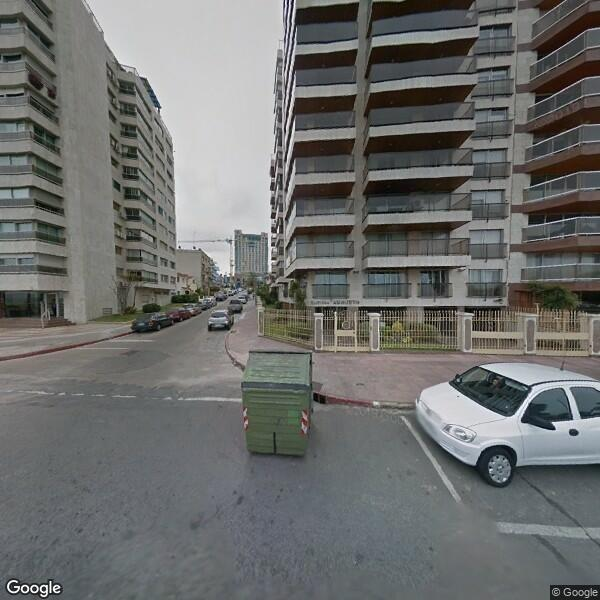Trash: (241, 348, 315, 458)
